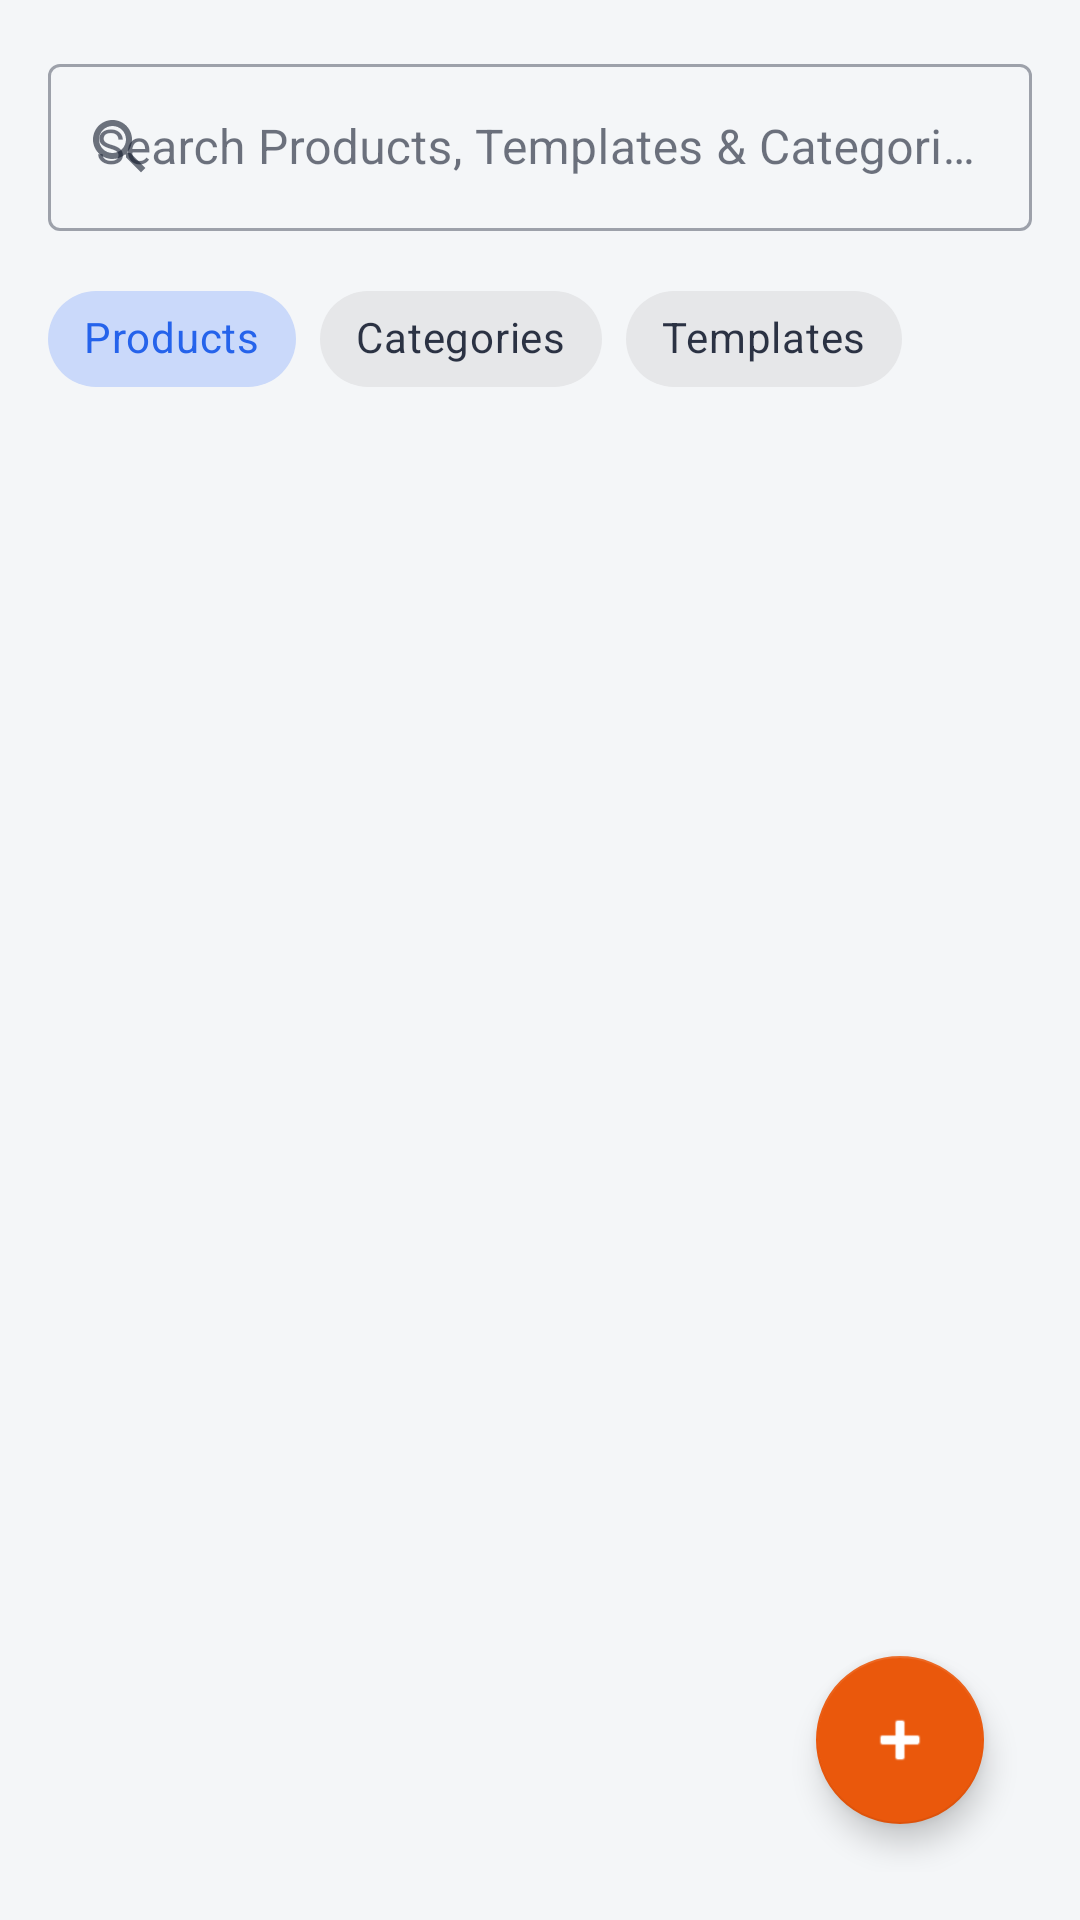

Named icons in this screenshot (1080w x 1920h) and their centers, [x,y]:
Add Product or Template: [900,1740]
